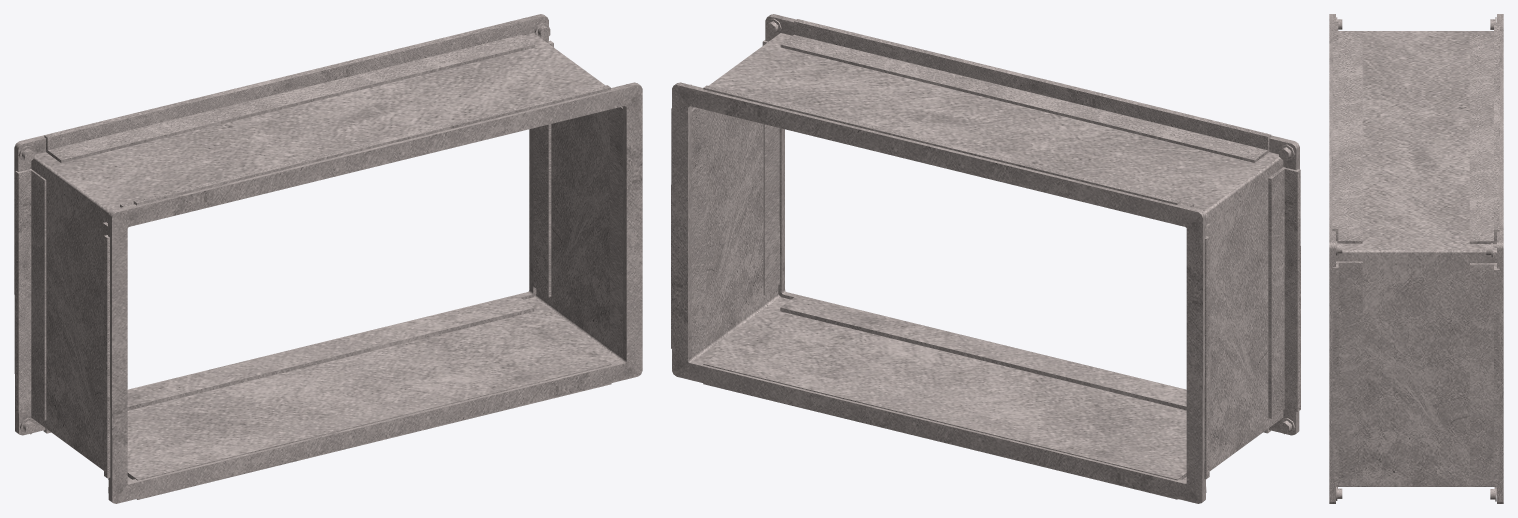
File: SM_Square_Ducting_02m.glb
The picture shows the model from 3 angles, left to right: view 1: azimuth 30°, elevation 25°; view 2: azimuth 150°, elevation 25°; view 3: azimuth 270°, elevation 25°; orthographic projection. The views are drawn at different scales.
Parts seen in each view (by area): view 1: SM_Square_Ducting_02m; view 2: SM_Square_Ducting_02m; view 3: SM_Square_Ducting_02m.
Boxes of the visible parts, left/top/right/bottom form: SM_Square_Ducting_02m: left=14, top=14, right=642, bottom=503; SM_Square_Ducting_02m: left=671, top=14, right=1300, bottom=503; SM_Square_Ducting_02m: left=1329, top=14, right=1503, bottom=503.
Bounding box in the file's own units: 0.797 × 0.4213 × 0.25.
Materials: 1 (1 with a texture image).
